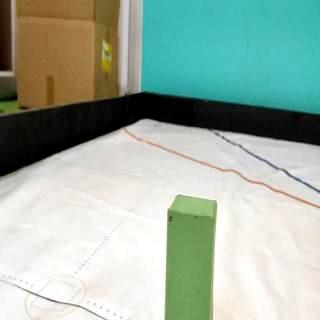greenbox: (164, 193, 218, 320)
